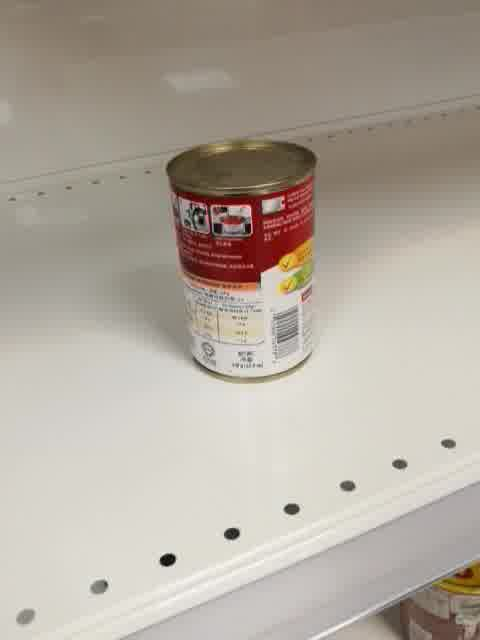tomatosoup: (164, 136, 318, 385)
